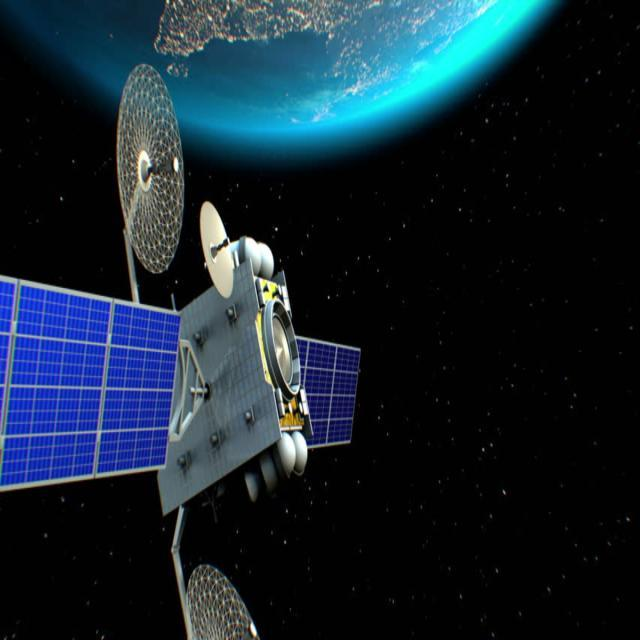sat: (0, 55, 366, 640)
